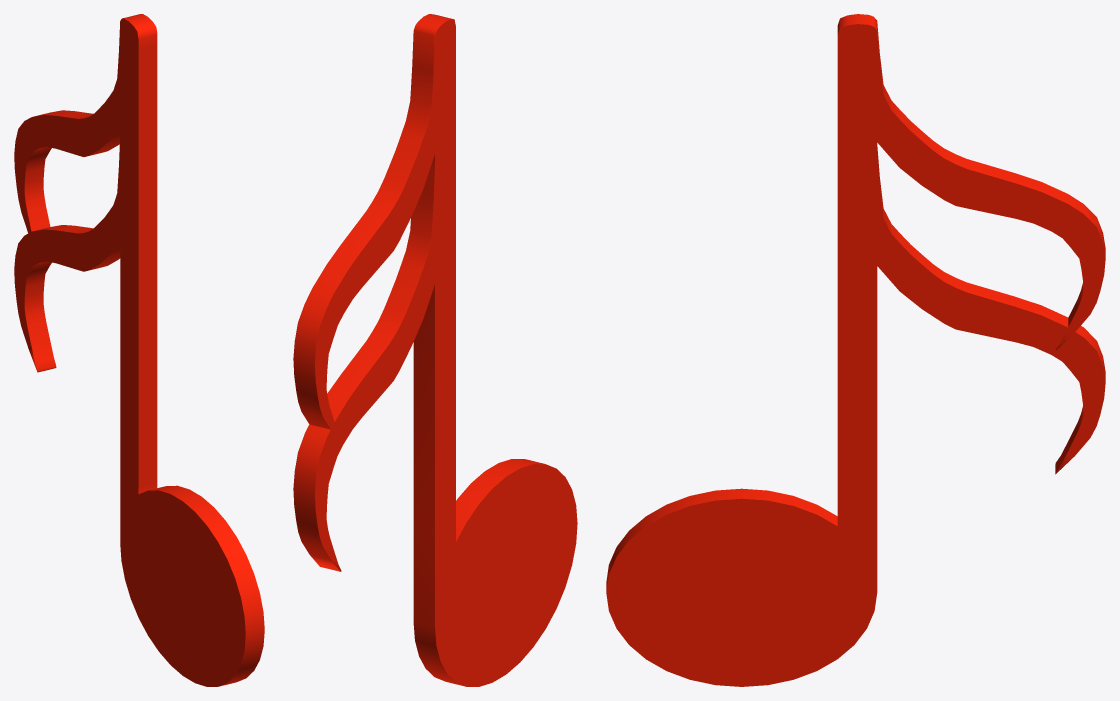
Rendered from musicNotes_05.fbx.
3 views of the same model, side by side, from view 1: azimuth 30°, elevation 25°; view 2: azimuth 150°, elevation 25°; view 3: azimuth 270°, elevation 25° (orthographic). The views are drawn at different scales.
Parts seen in each view (by area): view 1: Cylinder.005; view 2: Cylinder.005; view 3: Cylinder.005.
Part boxes in pixels (bbox=[...]): Cylinder.005: bbox=[14, 14, 264, 686]; Cylinder.005: bbox=[293, 14, 577, 686]; Cylinder.005: bbox=[606, 14, 1105, 686].
Bounding box in the file's own units: 1.83 × 56.64 × 38.66.
